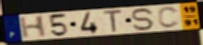4: (80, 11, 100, 35)
5: (47, 13, 70, 38)
C: (157, 6, 182, 29)
H: (18, 14, 47, 40)
S: (130, 7, 156, 32)
T: (102, 8, 124, 34)
